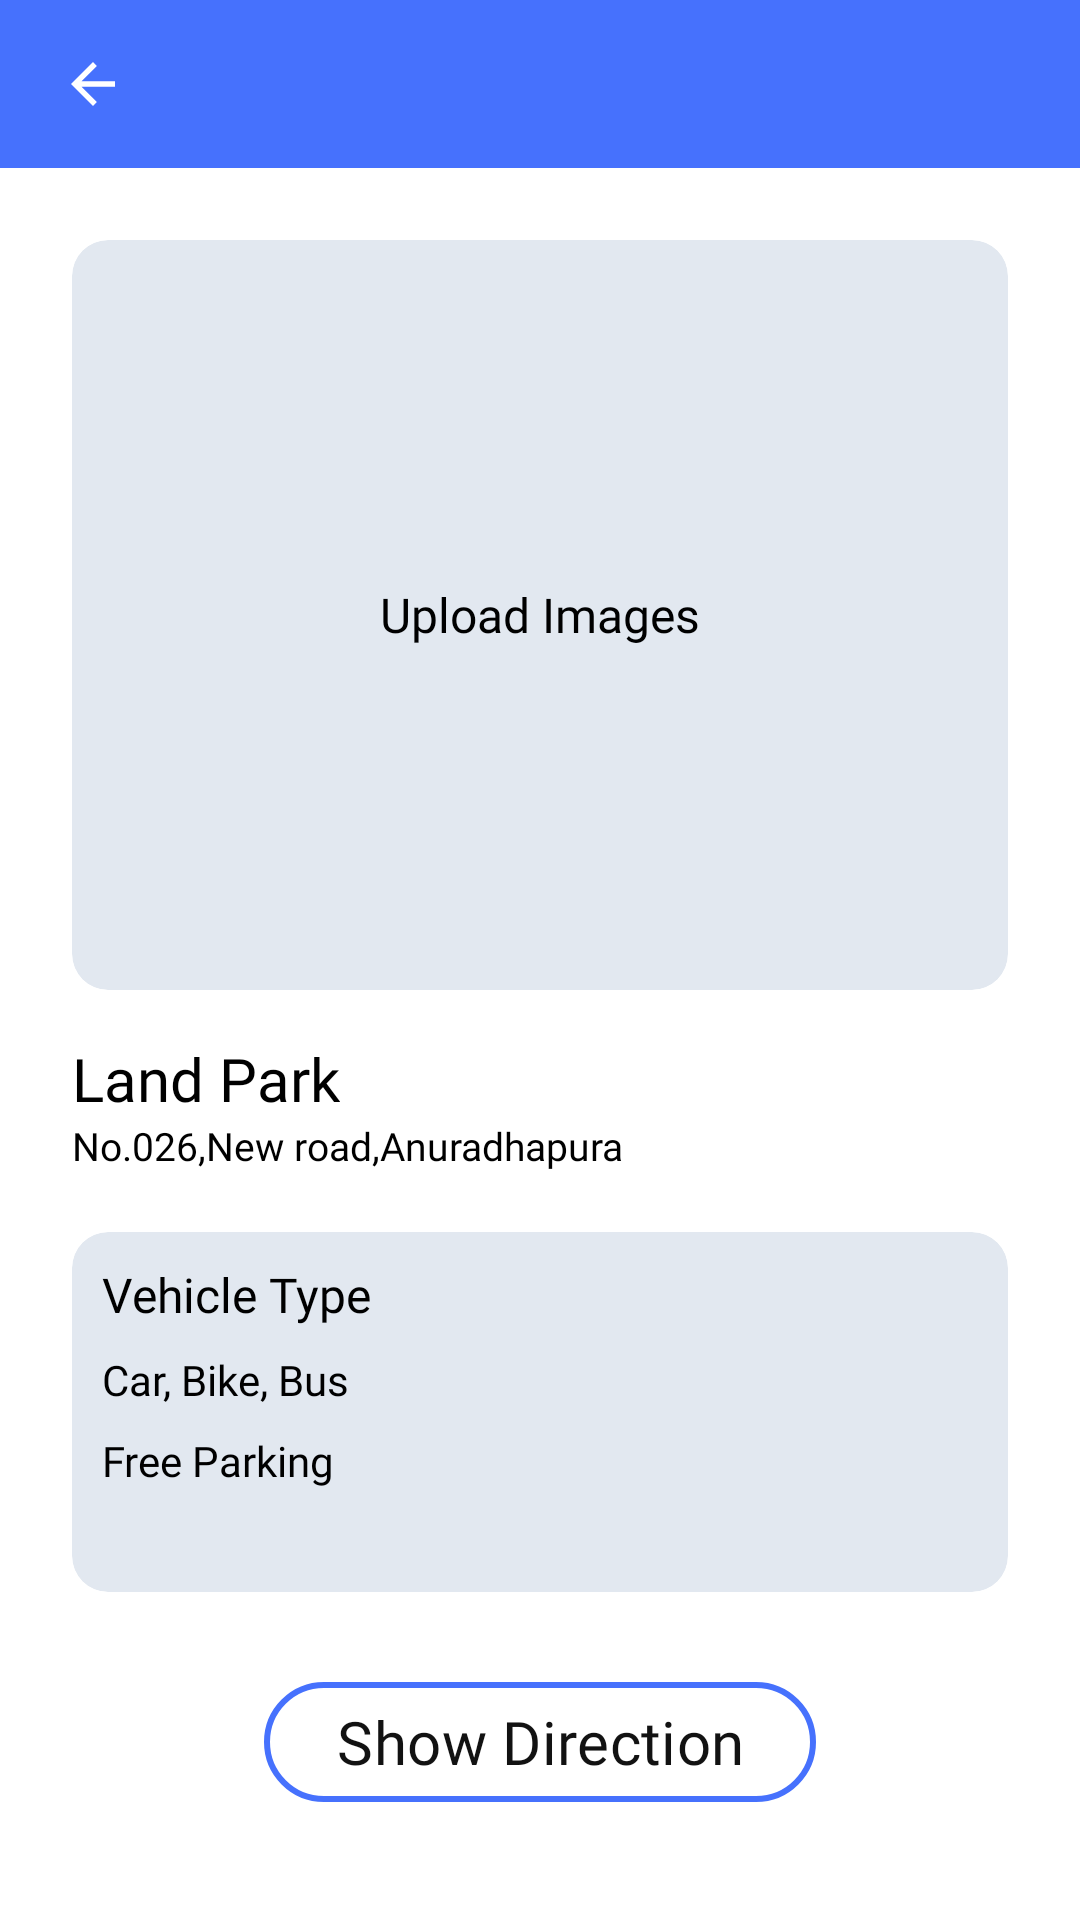

Icon bounding boxes for this 1080 x 1920 phone screenshot, format (x1, y1, x2, y2):
back: (71, 62, 115, 106)
